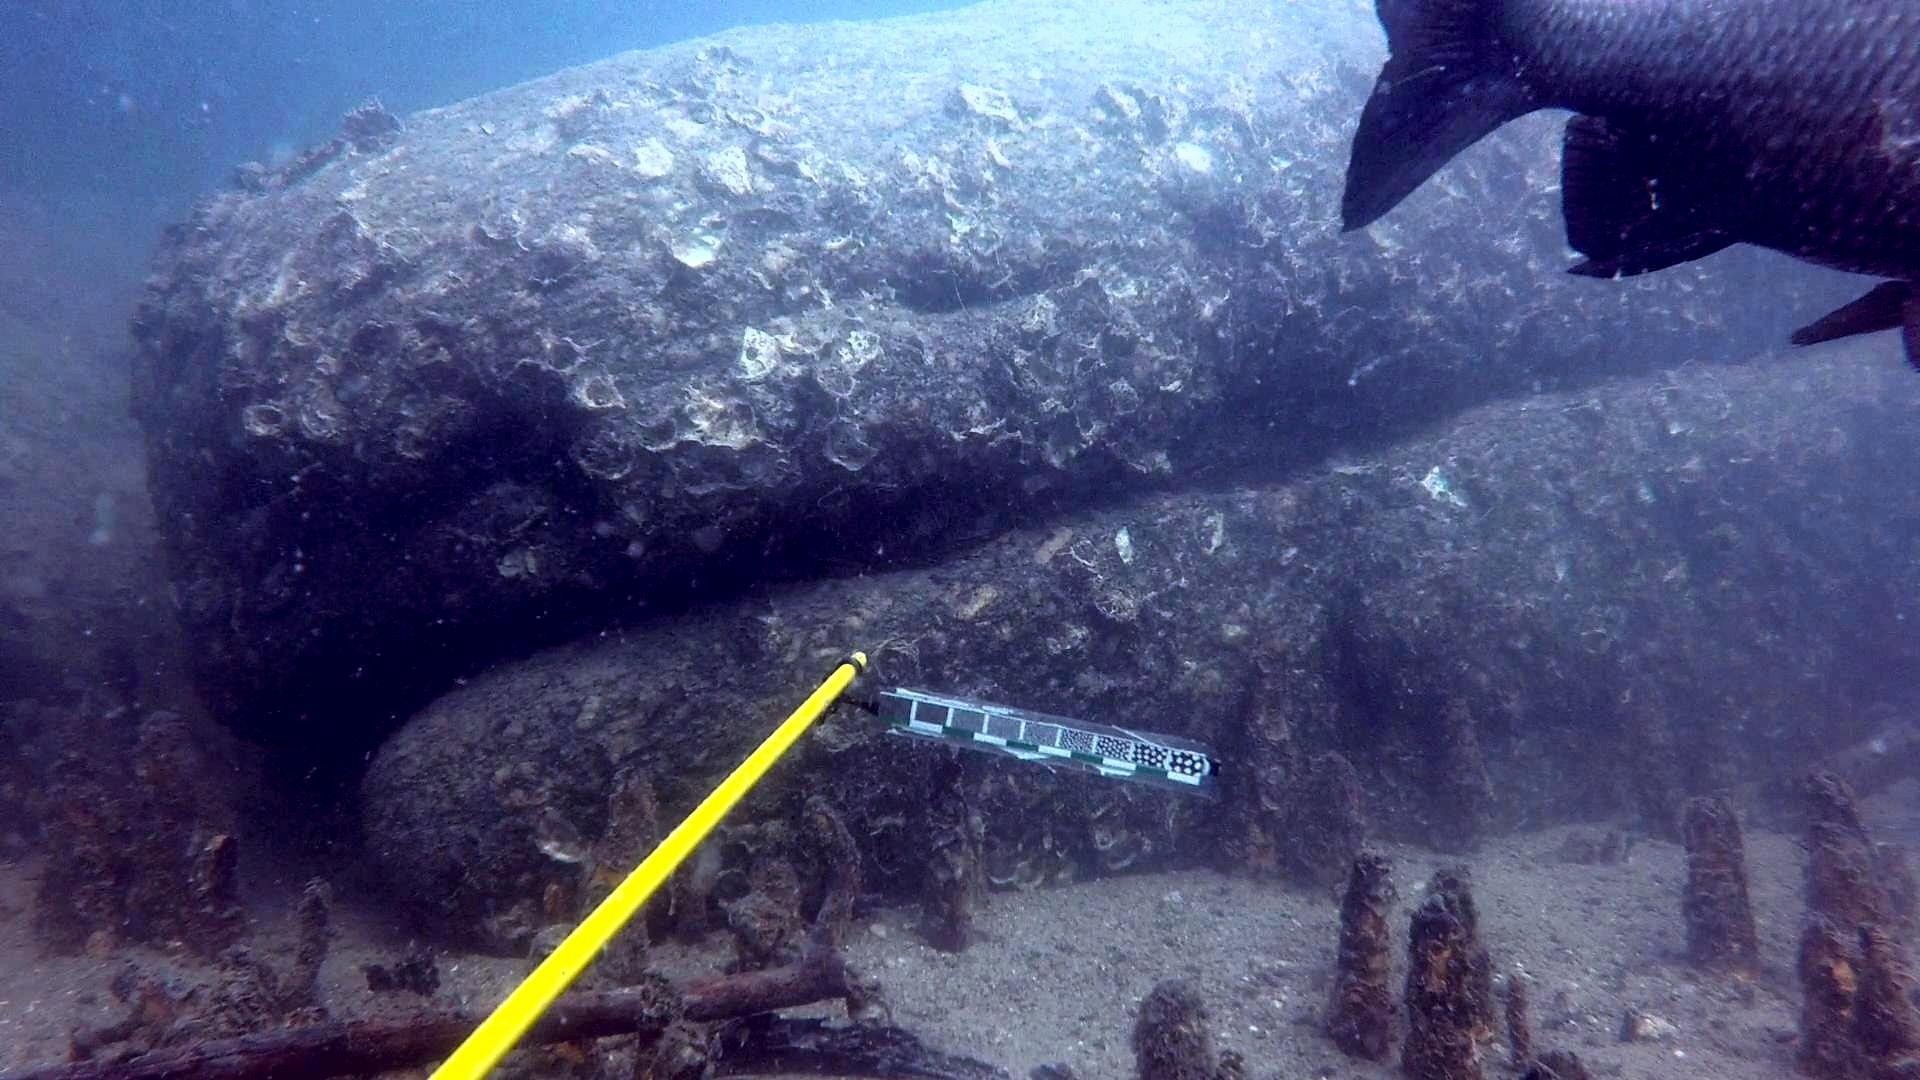acanthopagrus palmaris: (1332, 0, 1920, 384)
